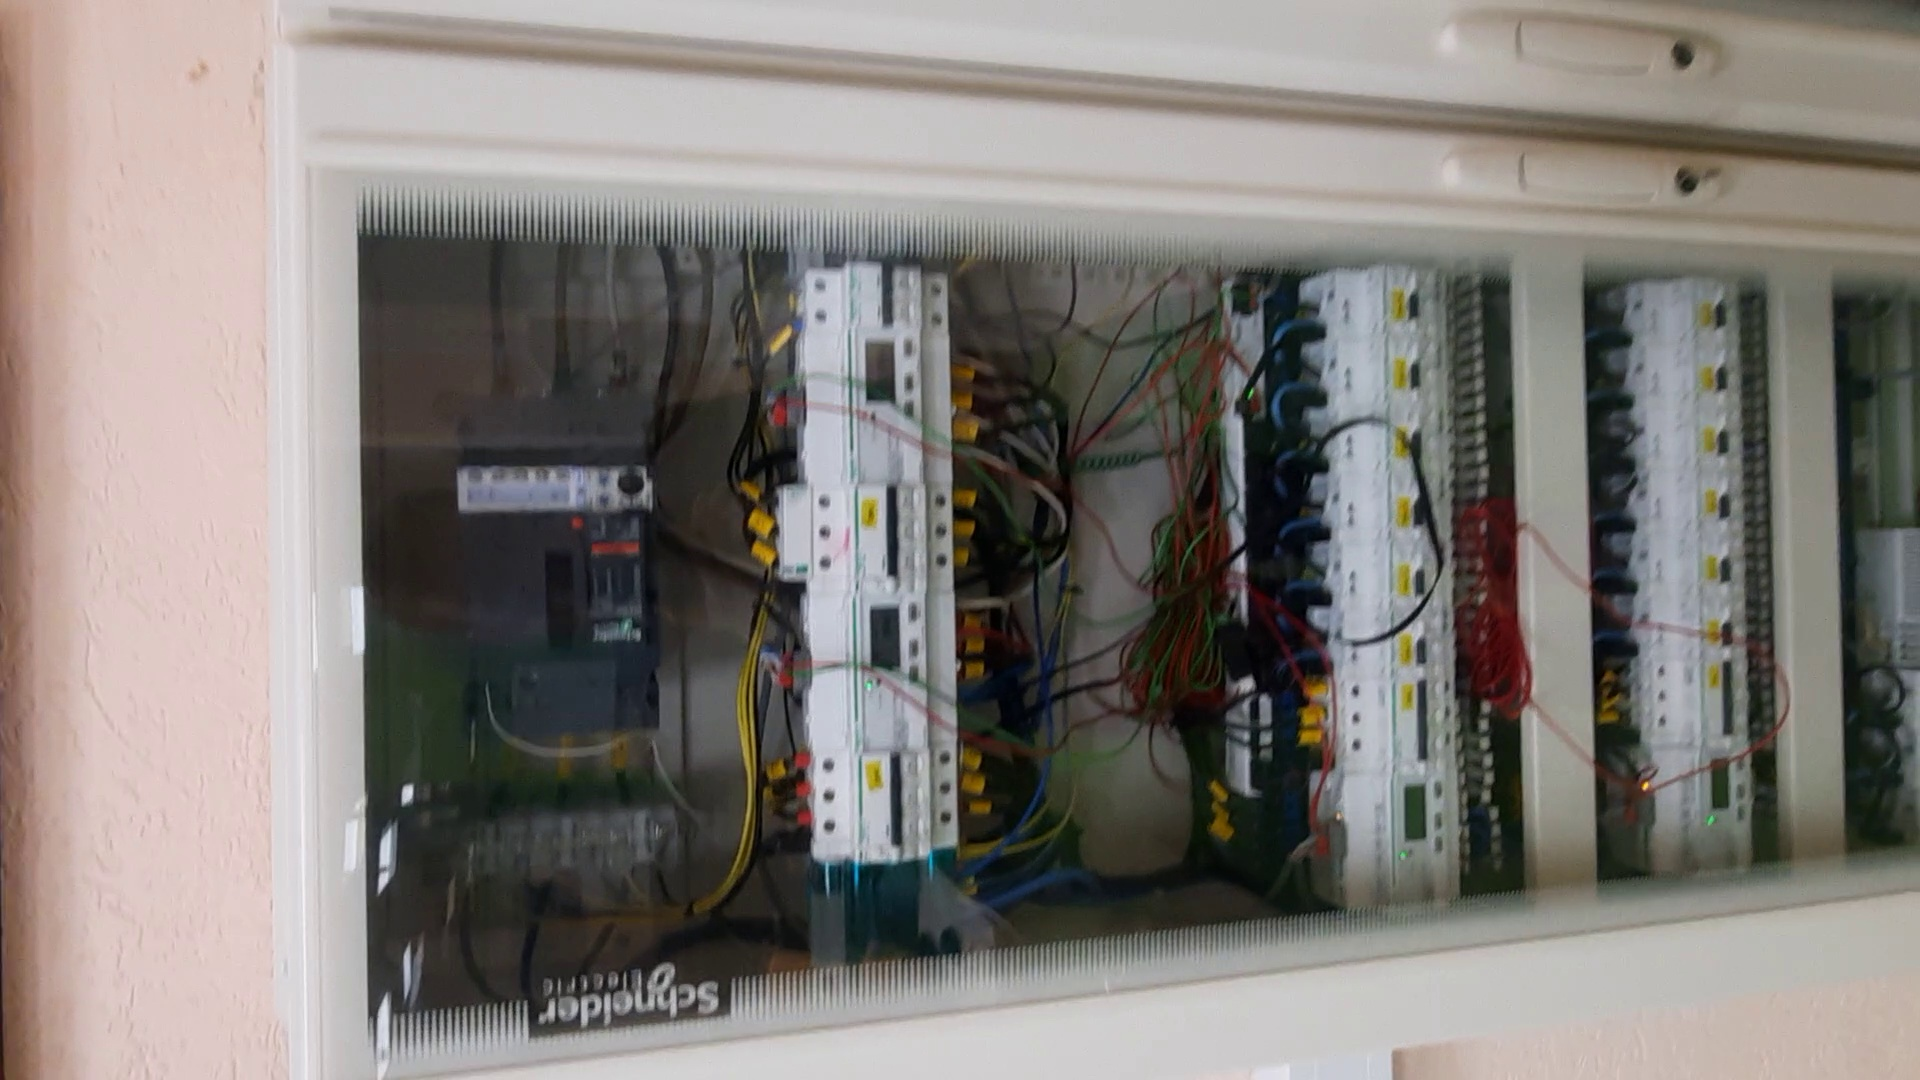stand1: (278, 1, 1917, 1080)
